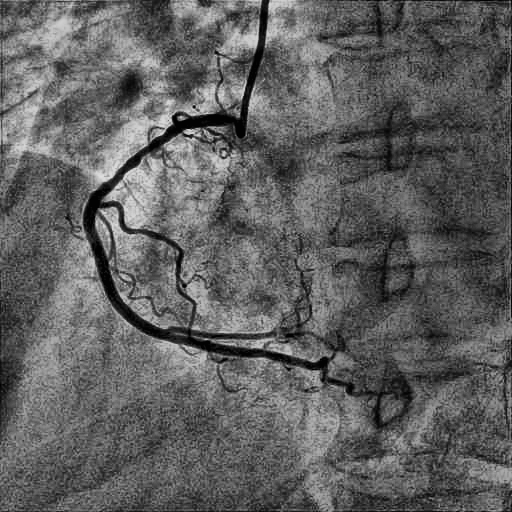pborca: (168, 327, 275, 339)
pda: (167, 333, 354, 394)
rca: (83, 112, 230, 339)
